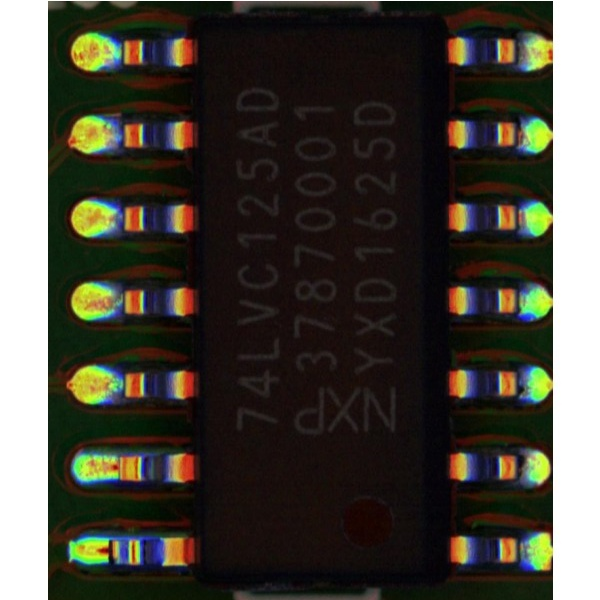Bad_podu: (96, 541, 125, 559), (103, 458, 132, 472)
